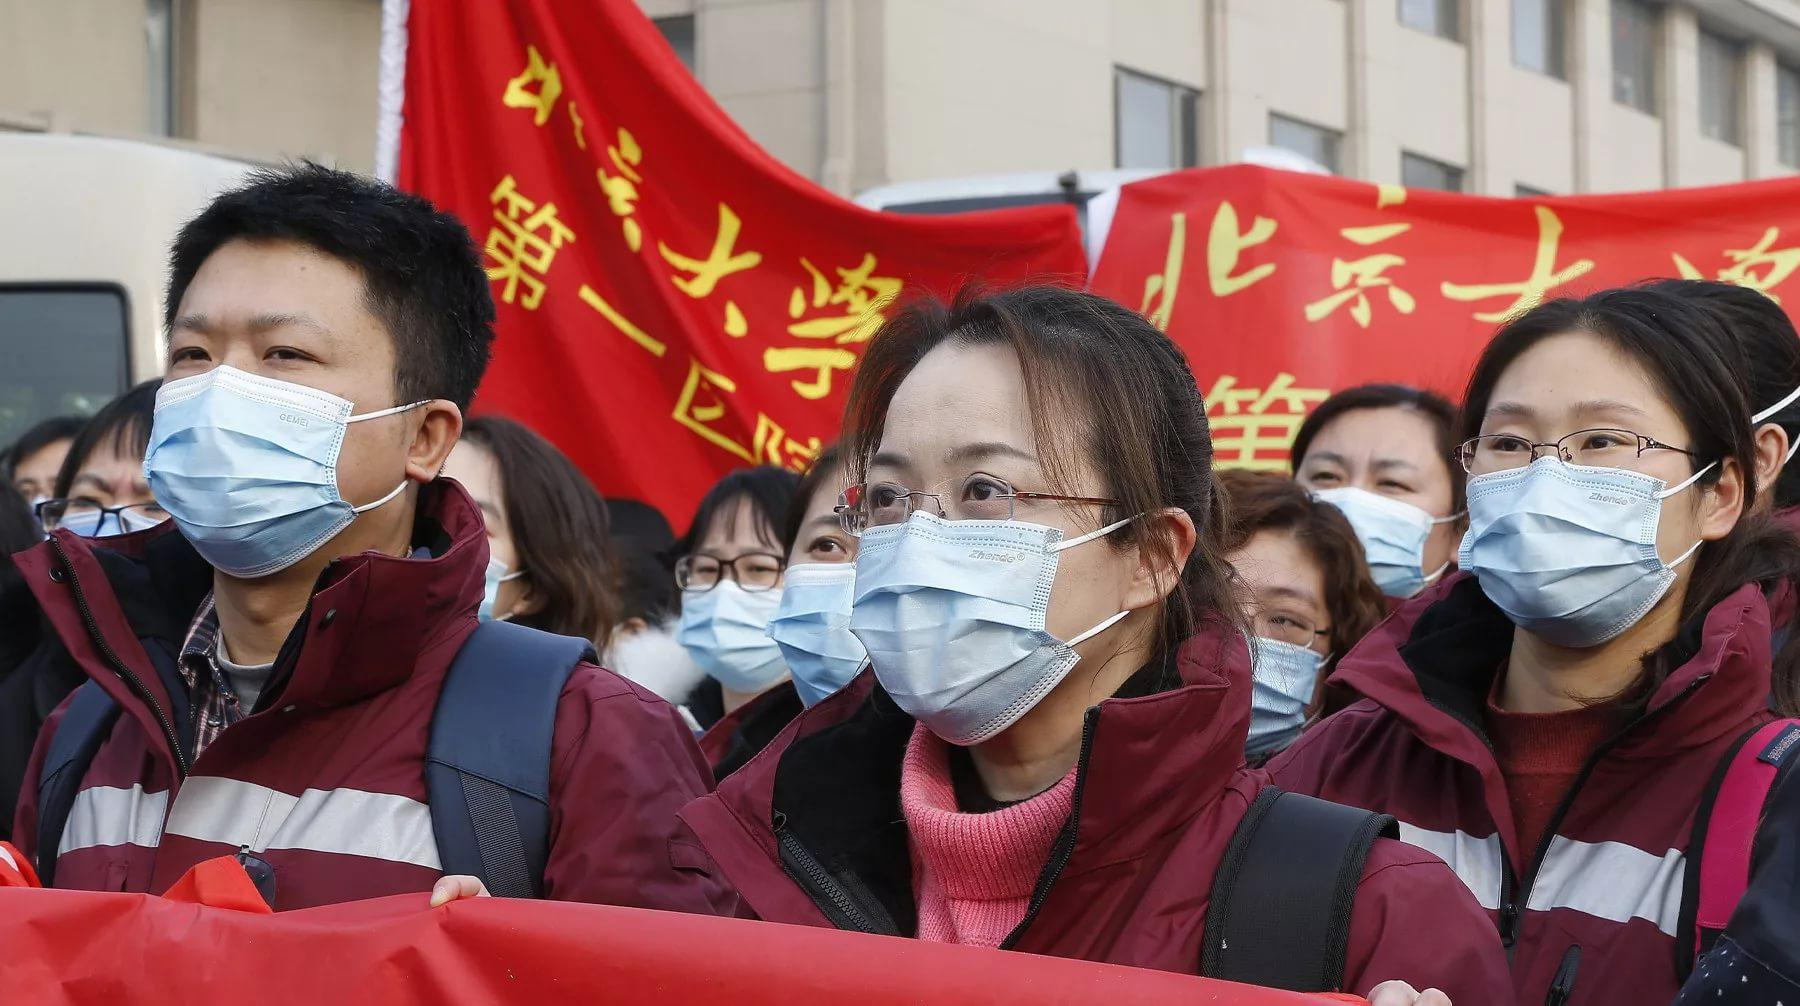mask: (848, 400, 1111, 742), (169, 269, 405, 586), (1471, 353, 1702, 649), (1214, 526, 1354, 751), (1303, 407, 1448, 592), (681, 489, 800, 690), (780, 480, 864, 690), (46, 404, 171, 539)
